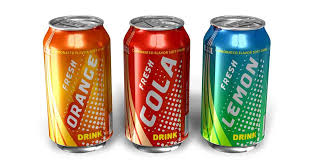can: (120, 11, 193, 157), (41, 13, 115, 157), (198, 14, 272, 155)
